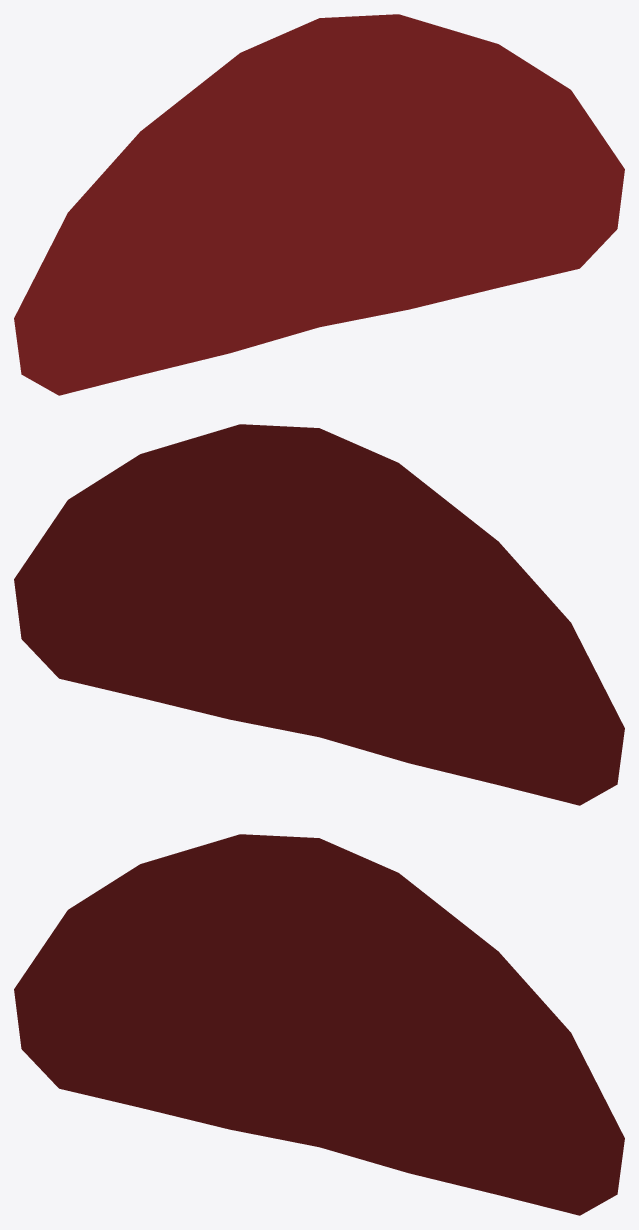
File: Ebimaru_Mouth.FBX
The picture shows the model from 3 angles, top to bottom: view 1: azimuth 30°, elevation 25°; view 2: azimuth 150°, elevation 25°; view 3: azimuth 330°, elevation 25°; orthographic projection.
Parts seen in each view (by area): view 1: Ebimaru_Mouth; view 2: Ebimaru_Mouth; view 3: Ebimaru_Mouth.
Boxes of the visible parts, x1,y1,x2,y2 form: Ebimaru_Mouth: [14, 14, 624, 395]; Ebimaru_Mouth: [14, 424, 624, 805]; Ebimaru_Mouth: [14, 834, 624, 1215].
Size of the model in its own units: 4.22 by 2.07 by 3.3e-07.
